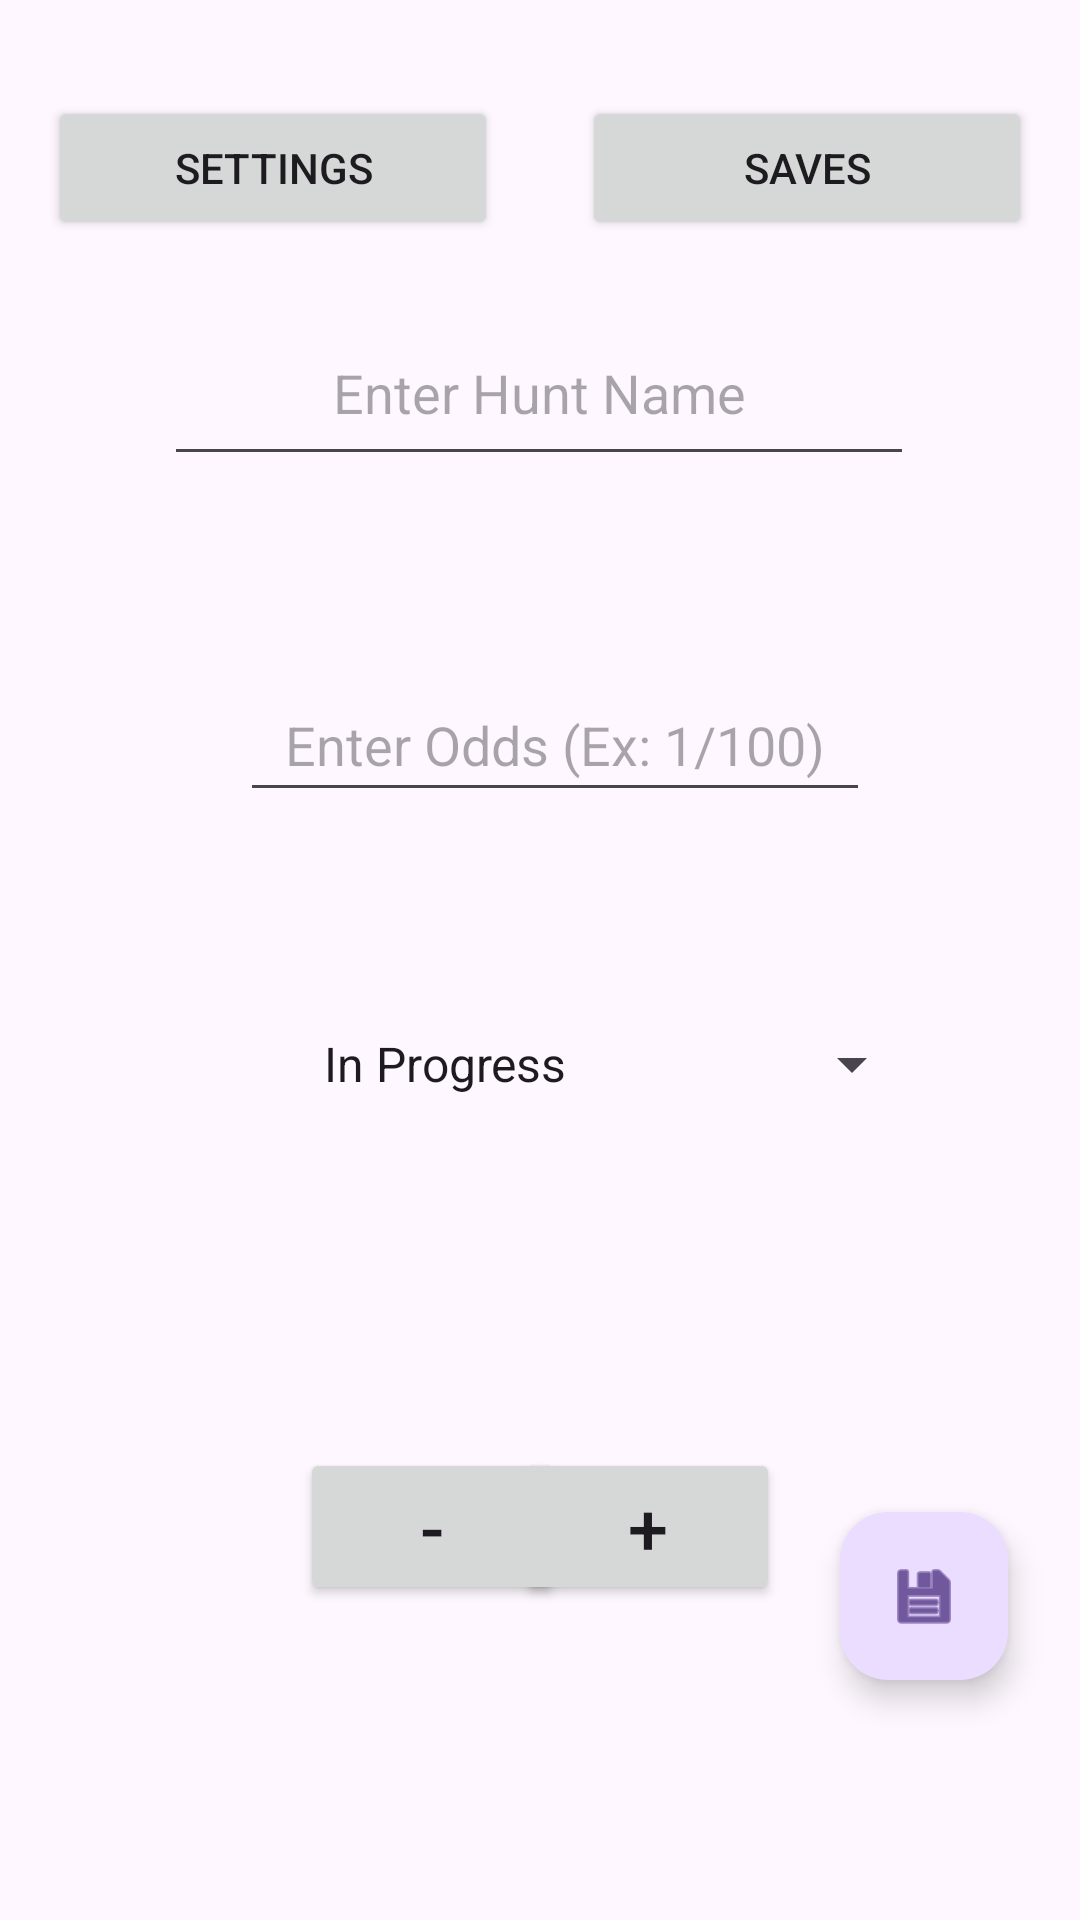

Screen size 1080x1920. Icon name, then its center in pixels as (x=x, y=y):
Save Button: (x=924, y=1596)
